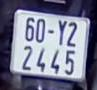0: (35, 18, 46, 44)
2: (20, 44, 33, 72), (68, 21, 78, 48)
4: (49, 48, 62, 76), (36, 47, 47, 73)
5: (64, 49, 77, 77)
6: (25, 15, 35, 43)
y: (57, 19, 67, 47)
